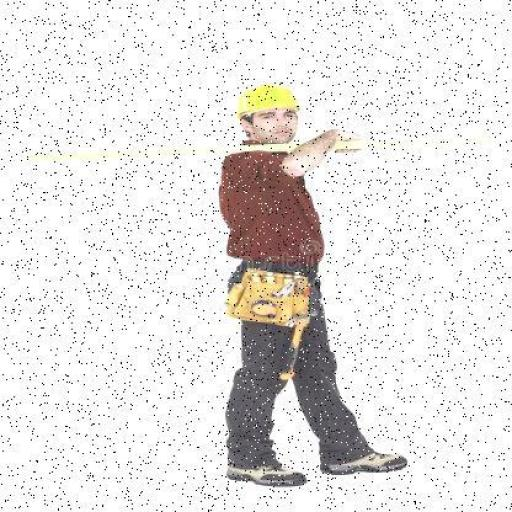person: (161, 83, 404, 491)
safety_shoe: (223, 454, 314, 489), (322, 452, 408, 482)
